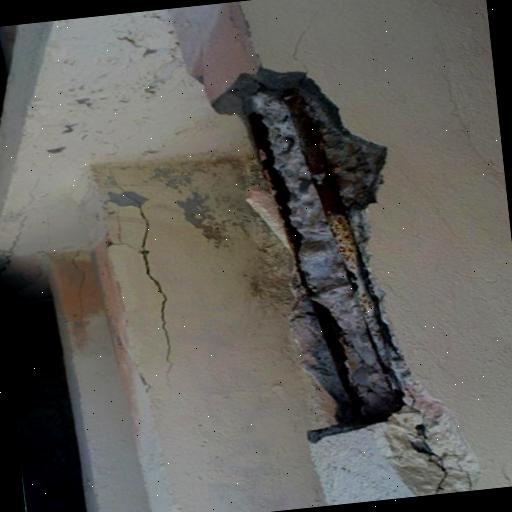spalling: (215, 70, 479, 495), (105, 177, 182, 372)
